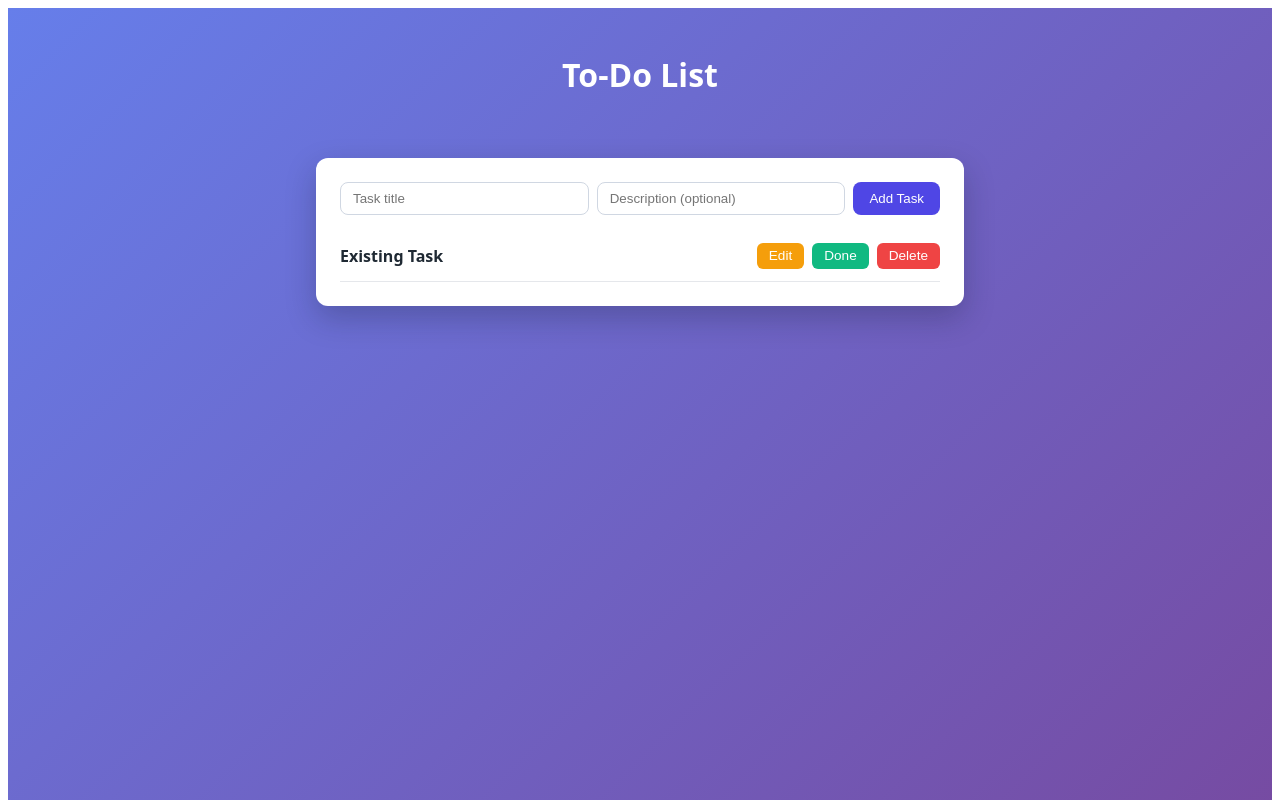
Test: To-Do App UI › marks a task as complete and updates its status
Expected: the text "Existing Task" is shown, [340, 245, 443, 267]
What coordinates should you click on to do the following:
click the button with aria-label "mark existing task as complete"
I would click on:
 (840, 256)
Its box is [812, 243, 869, 269].
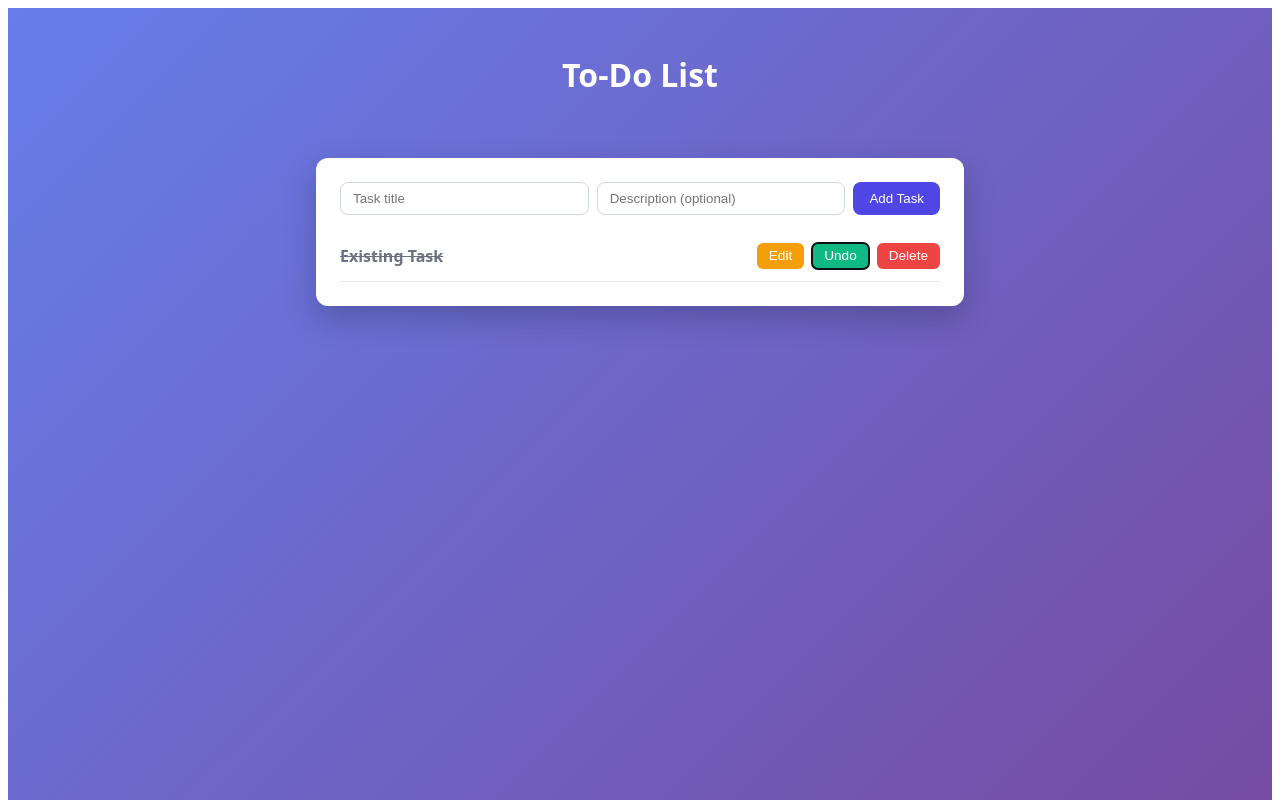
Expected: the button with aria-label "mark existing task as incomplete" is shown, [812, 243, 869, 269]
